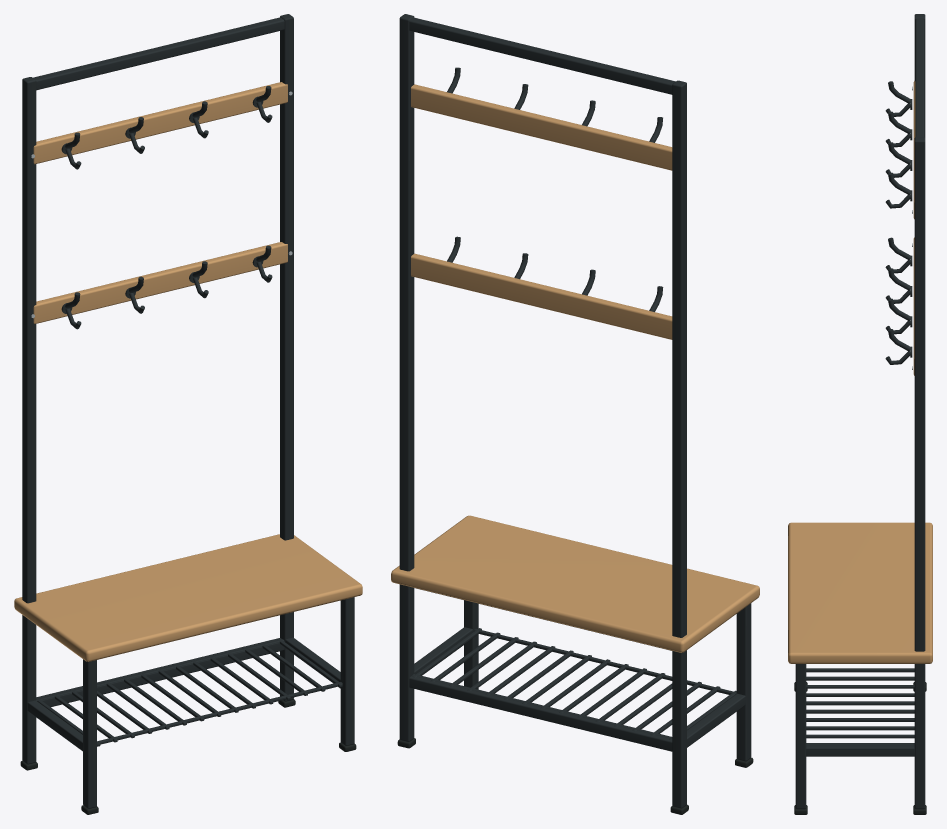
File: hall-tree.glb
3 renders of one model, left to right at view 1: azimuth 30°, elevation 25°; view 2: azimuth 150°, elevation 25°; view 3: azimuth 270°, elevation 25°, orthographic. The views are drawn at different scales.
Visible parts, largest first — view 1: hall-tree authored assembly; view 2: hall-tree authored assembly; view 3: hall-tree authored assembly.
Boxes of the visible parts, <box> form: hall-tree authored assembly: <box>14,14,362,814</box>; hall-tree authored assembly: <box>391,14,759,814</box>; hall-tree authored assembly: <box>788,14,932,814</box>.
Size of the model in its own units: 0.8 by 1.9 by 0.37.
